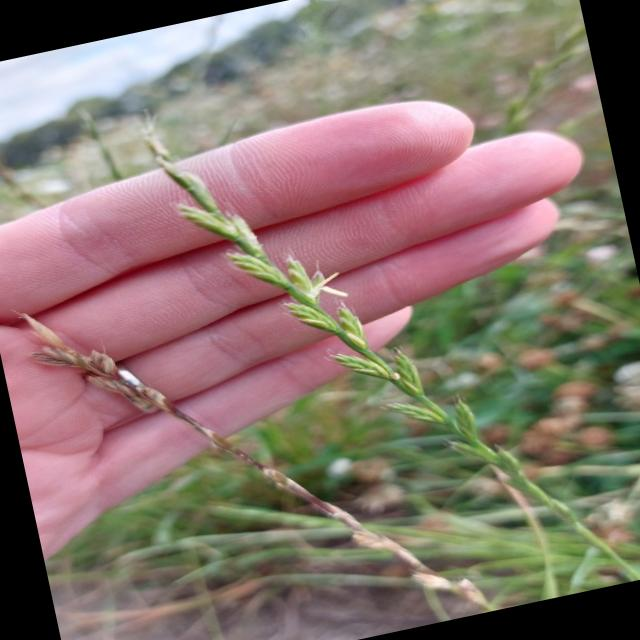Lolium: (169, 85, 640, 640), (32, 218, 571, 640)
